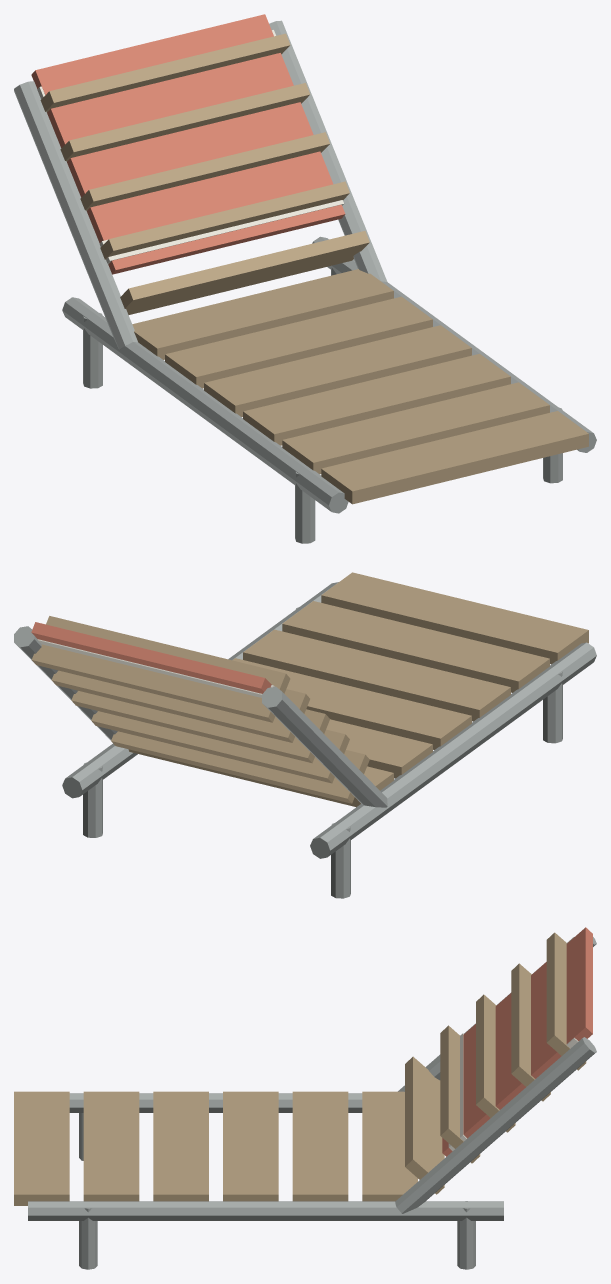
File: reserved-lounger-red.glb
3 views of the same model, one above another, from view 1: azimuth 30°, elevation 25°; view 2: azimuth 150°, elevation 25°; view 3: azimuth 270°, elevation 25° (orthographic). The views are drawn at different scales.
Visible parts, largest first — view 1: wood slat.006, reserved towel cloth.001, frame rail.002, towel hem.002; view 2: wood slat.006, frame rail.002, reserved towel cloth.001, towel hem.002; view 3: wood slat.006, frame rail.002, reserved towel cloth.001, towel hem.002.
Part boxes in pixels (box(x1,y1,x2,y2)): wood slat.006: box(40, 33, 588, 504); reserved towel cloth.001: box(31, 14, 345, 274); frame rail.002: box(14, 20, 596, 543); towel hem.002: box(37, 30, 343, 264); wood slat.006: box(31, 572, 588, 807); frame rail.002: box(14, 582, 596, 898); reserved towel cloth.001: box(31, 622, 271, 693); towel hem.002: box(37, 639, 274, 697); wood slat.006: box(14, 932, 586, 1205); frame rail.002: box(28, 937, 596, 1269); reserved towel cloth.001: box(442, 927, 592, 1156); towel hem.002: box(448, 936, 578, 1151).
Bounding box in the file's own units: 1.19 × 1.12 × 2.51.
